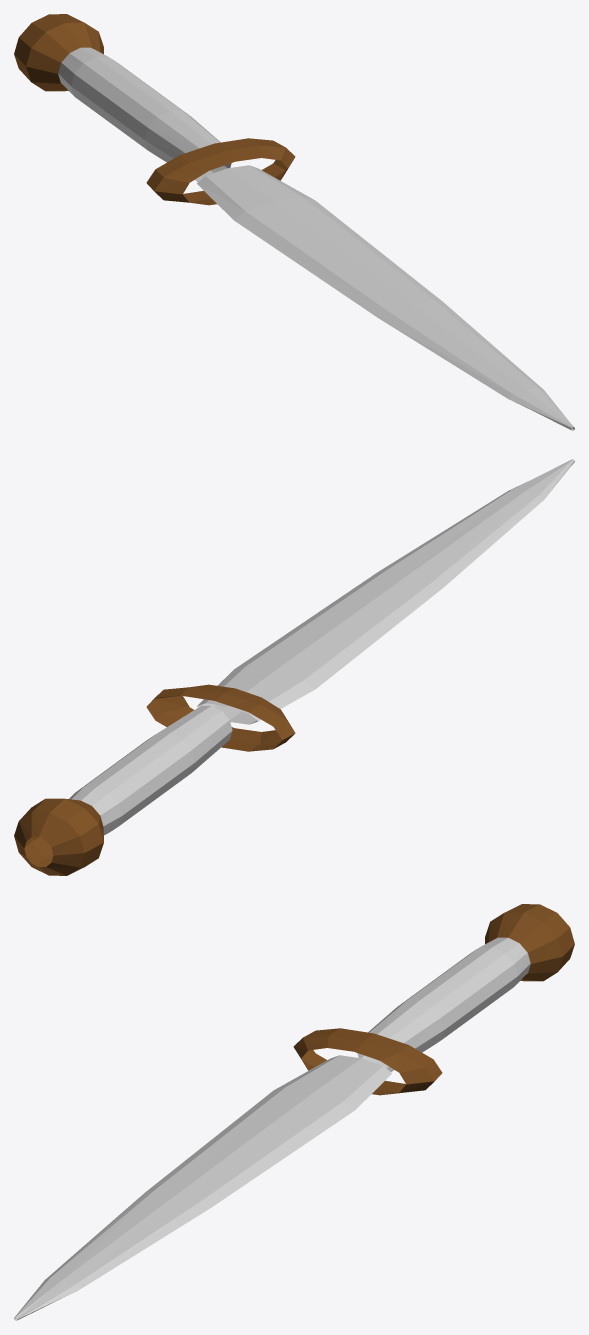
File: RitualDagger_LOD1.obj
3 views of the same model, one above another, from view 1: azimuth 30°, elevation 25°; view 2: azimuth 150°, elevation 25°; view 3: azimuth 330°, elevation 25° (orthographic).
Visible parts, largest first — view 1: iron_blade, leather_grip, bronze_guard, bronze_pommel; view 2: iron_blade, leather_grip, bronze_pommel, bronze_guard; view 3: iron_blade, leather_grip, bronze_guard, bronze_pommel.
Part boxes in pixels (<box>): iron_blade: <box>197,165,574,430</box>; leather_grip: <box>58,47,231,181</box>; bronze_guard: <box>146,138,295,205</box>; bronze_pommel: <box>14,14,103,91</box>; iron_blade: <box>197,459,574,724</box>; leather_grip: <box>69,705,232,835</box>; bronze_pommel: <box>14,798,103,875</box>; bronze_guard: <box>146,684,295,751</box>; iron_blade: <box>14,1055,391,1320</box>; leather_grip: <box>357,937,530,1071</box>; bronze_guard: <box>293,1028,442,1095</box>; bronze_pommel: <box>485,904,574,981</box>.
Bounding box in the file's own units: 0.156 × 0.072 × 1.02.
